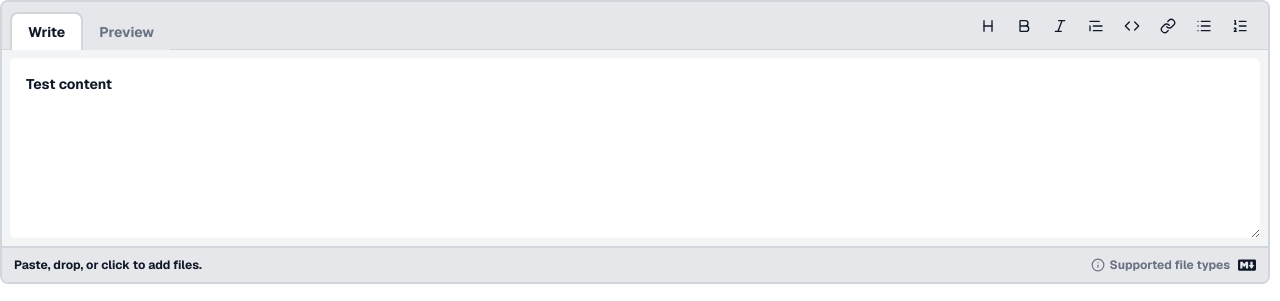
Test: GitHubMessageEditor › Tab Switching › should switch back to Write tab when clicked
Click the button "Preview": (127, 32) [83,14,170,50]
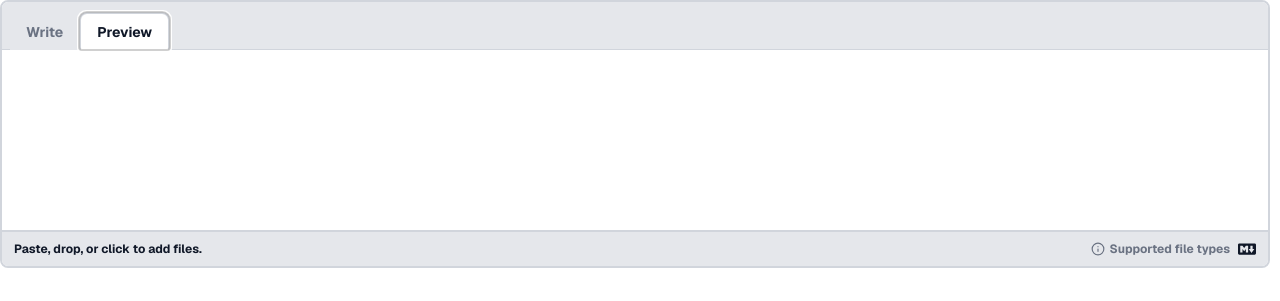
Click the button "Write": (45, 32) [10,14,79,50]
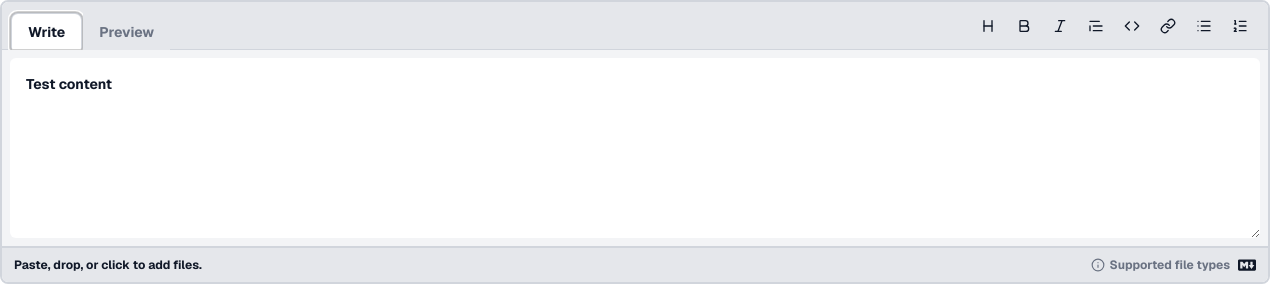
Expected: the element named "Formatting tools" is shown, [972,2,1256,49]
